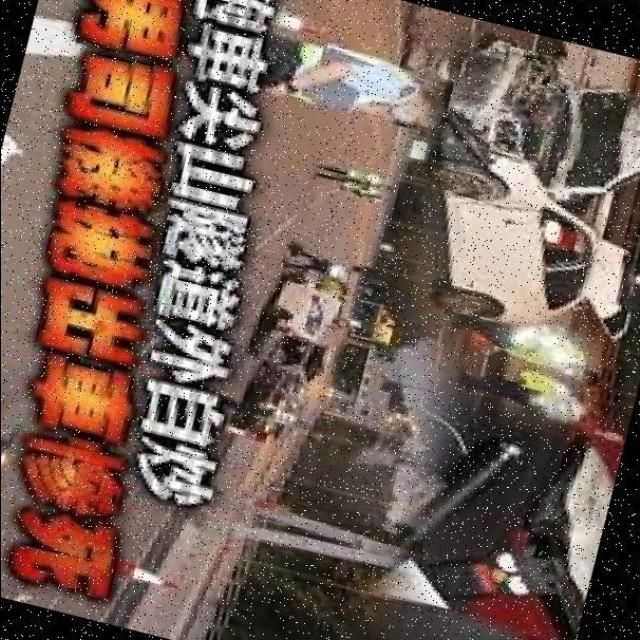accident: (408, 19, 640, 357), (244, 286, 336, 390)
